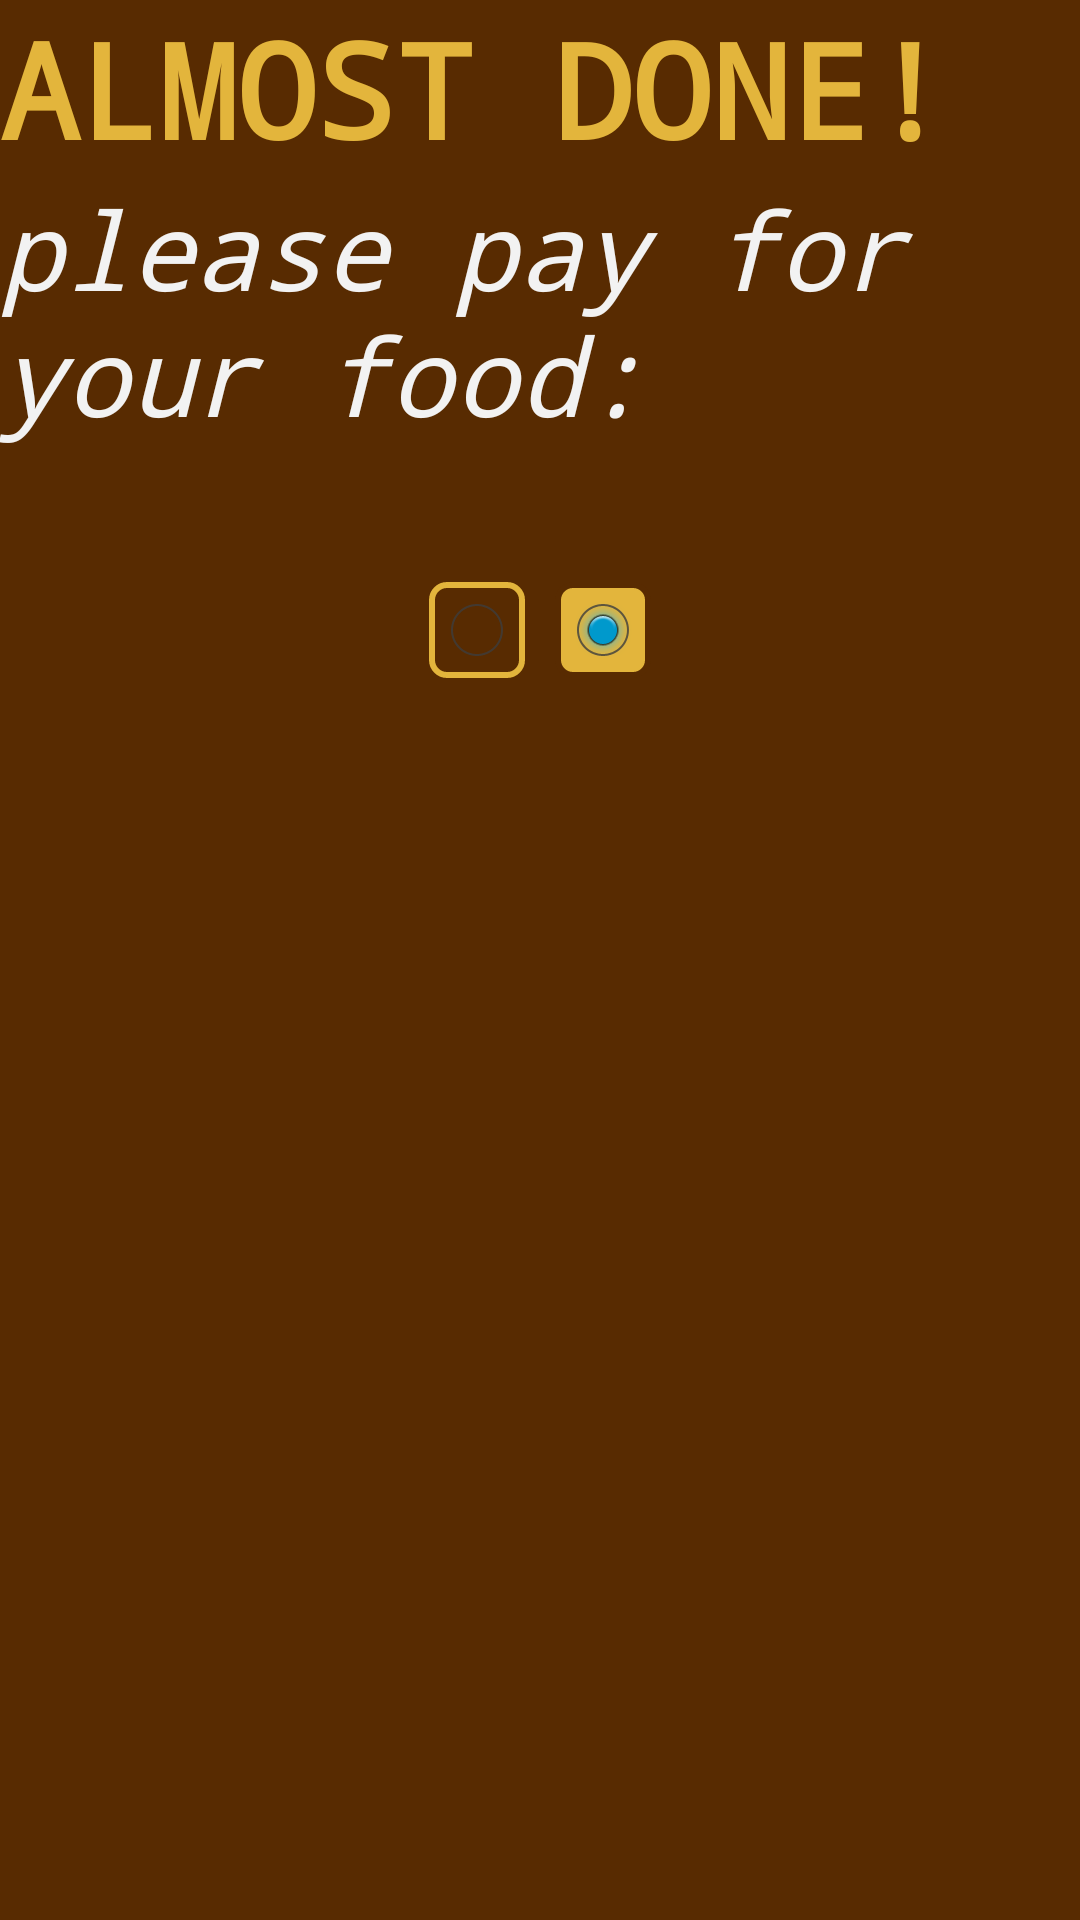

Locate icon controls on the screen. Image size 1080 × 1920, boxes as (x1, y1, x2, y2).
checkbox: (429, 582, 525, 678), (561, 588, 645, 672)
